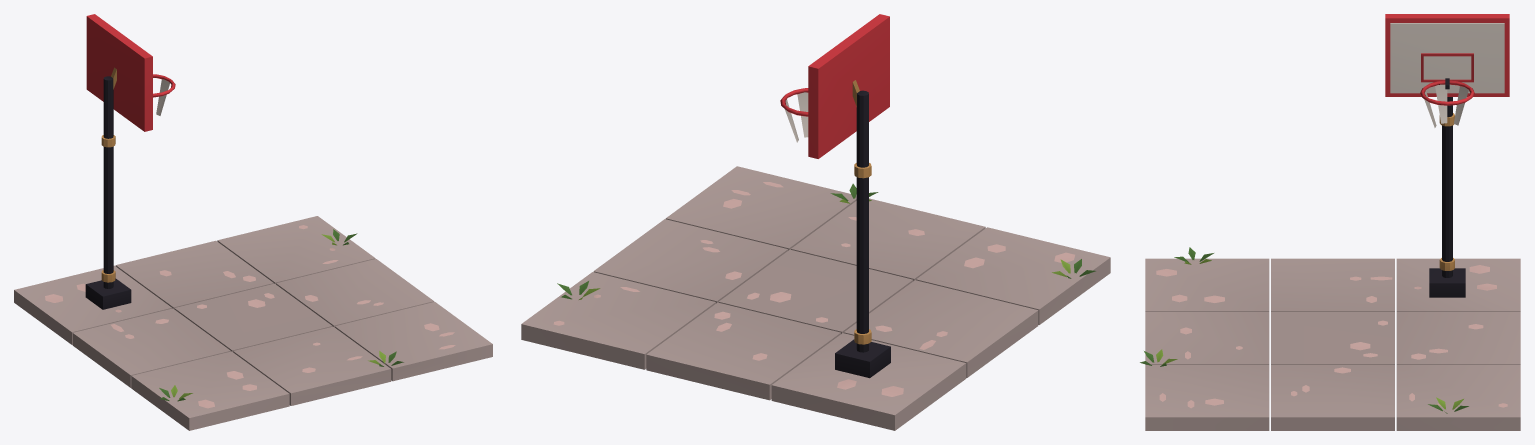
3 views of the same model, side by side, from view 1: azimuth 30°, elevation 25°; view 2: azimuth 150°, elevation 25°; view 3: azimuth 270°, elevation 25° (orthographic). The views are drawn at different scales.
Visible parts, largest first — view 1: root_pal_sidewalk, root_pal_survivorRed, root_pal_uiDark, root_pal_pocketRose; view 2: root_pal_sidewalk, root_pal_survivorRed, root_pal_uiDark, root_pal_pocketRose, root_pal_brass; view 3: root_pal_sidewalk, root_pal_picketWhite, root_pal_survivorRed, root_pal_uiDark, root_pal_pocketRose, root_pal_foliageDark.
Part boxes in pixels (x1,y1,x2,y2): root_pal_sidewalk: [14, 216, 492, 430]; root_pal_survivorRed: [86, 14, 175, 131]; root_pal_uiDark: [85, 76, 131, 309]; root_pal_pocketRose: [45, 225, 455, 408]; root_pal_sidewalk: [521, 166, 1110, 430]; root_pal_survivorRed: [780, 14, 889, 158]; root_pal_uiDark: [835, 90, 890, 378]; root_pal_pocketRose: [553, 182, 1074, 396]; root_pal_brass: [852, 80, 871, 344]; root_pal_sidewalk: [1145, 258, 1520, 430]; root_pal_picketWhite: [1390, 23, 1504, 127]; root_pal_survivorRed: [1385, 14, 1509, 105]; root_pal_uiDark: [1429, 78, 1465, 297]; root_pal_pocketRose: [1156, 265, 1507, 408]; root_pal_foliageDark: [1140, 247, 1468, 413].
Bounding box in the file's own units: 3.13 × 2.58 × 3.03.
